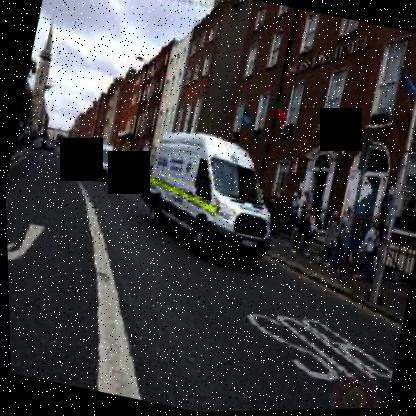emergency: (128, 123, 293, 273)
